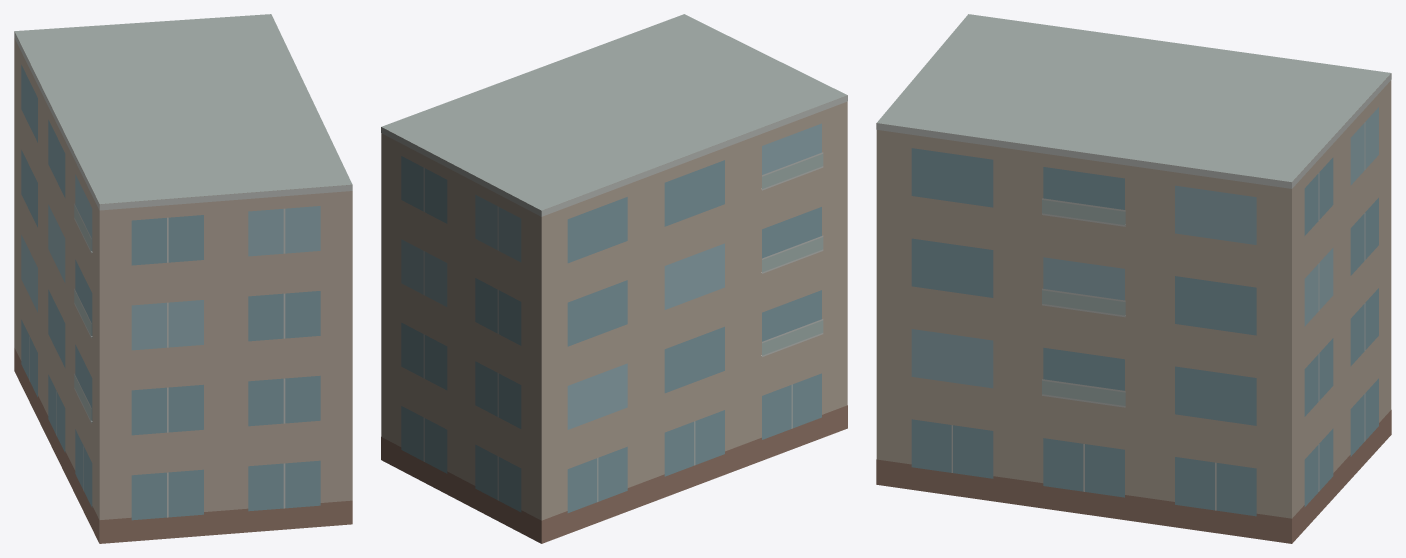
Rendered from survey-upis-32885971.glb.
The picture shows the model from 3 angles, left to right: view 1: azimuth 30°, elevation 25°; view 2: azimuth 150°, elevation 25°; view 3: azimuth 270°, elevation 25°; orthographic projection. The views are drawn at different scales.
Visible parts, largest first — view 1: survey-upis-32885971.tmp; view 2: survey-upis-32885971.tmp; view 3: survey-upis-32885971.tmp.
Boxes of the visible parts, left/top/right/bottom form: survey-upis-32885971.tmp: left=14, top=14, right=352, bottom=543; survey-upis-32885971.tmp: left=381, top=14, right=847, bottom=543; survey-upis-32885971.tmp: left=876, top=14, right=1391, bottom=543.
Size of the model in its own units: 13.08 by 13.1 by 16.92.
